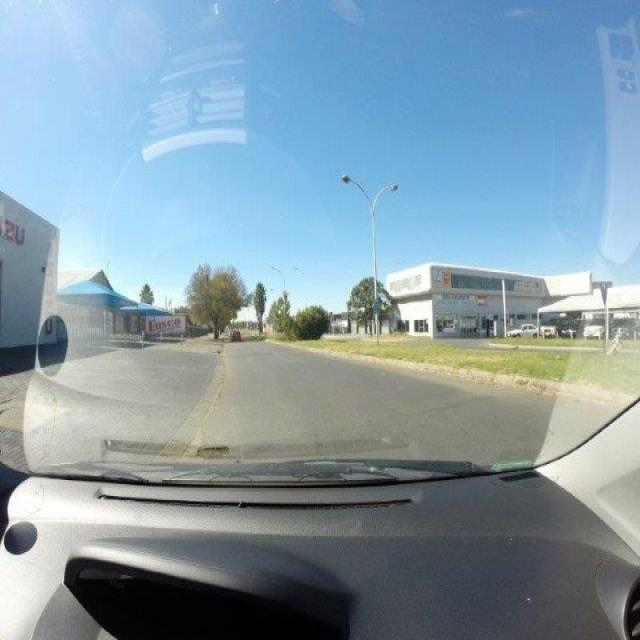lubang: (192, 441, 232, 463)
